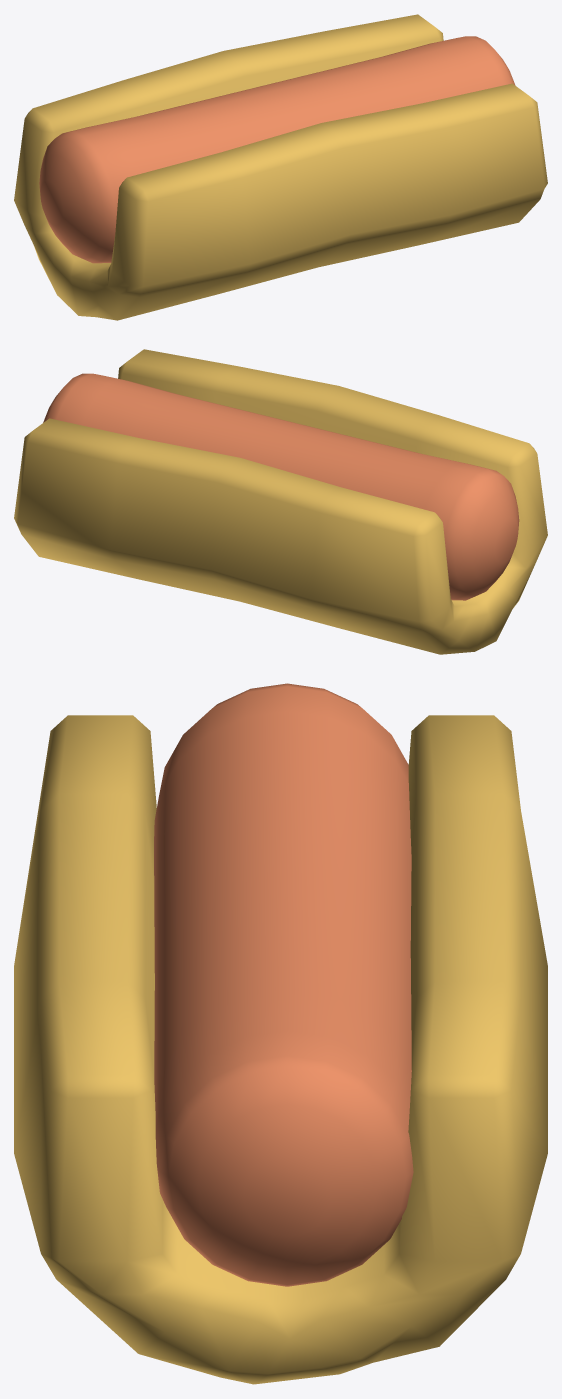
The model's file is hotDog.fbx.
3 renders of one model, top to bottom at view 1: azimuth 30°, elevation 25°; view 2: azimuth 150°, elevation 25°; view 3: azimuth 270°, elevation 25°, orthographic. The views are drawn at different scales.
Parts seen in each view (by area): view 1: HotDog; view 2: HotDog; view 3: HotDog.
Boxes of the visible parts, box(x1,y1,x2,y2) form: HotDog: box(14, 14, 547, 320); HotDog: box(14, 349, 547, 654); HotDog: box(14, 683, 547, 1384).
Bounding box in the file's own units: 62 × 32.99 × 22.28.
